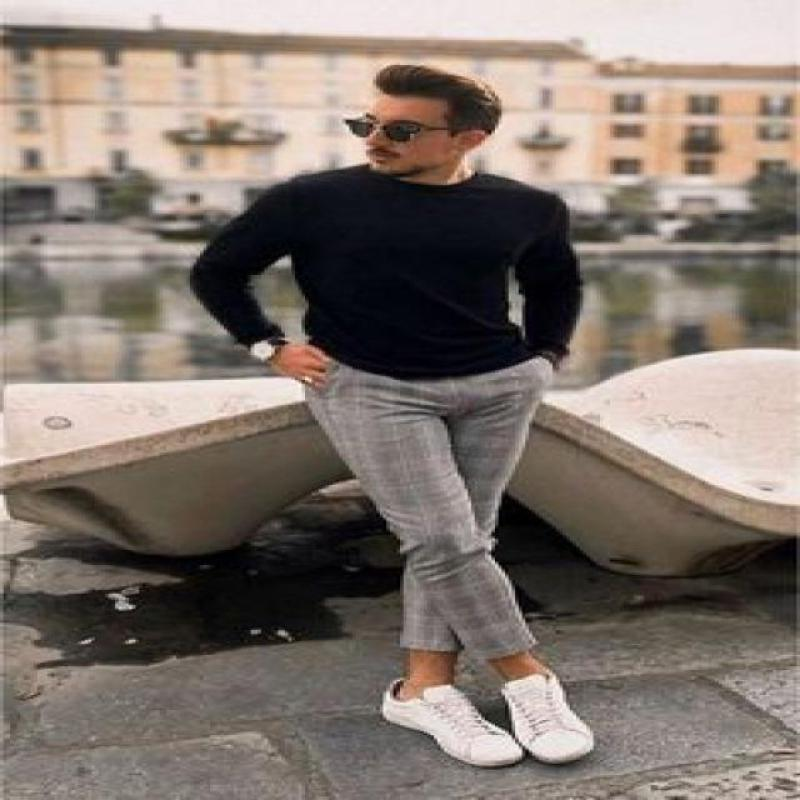sweater: (184, 166, 586, 372)
trousers: (300, 349, 555, 666)
